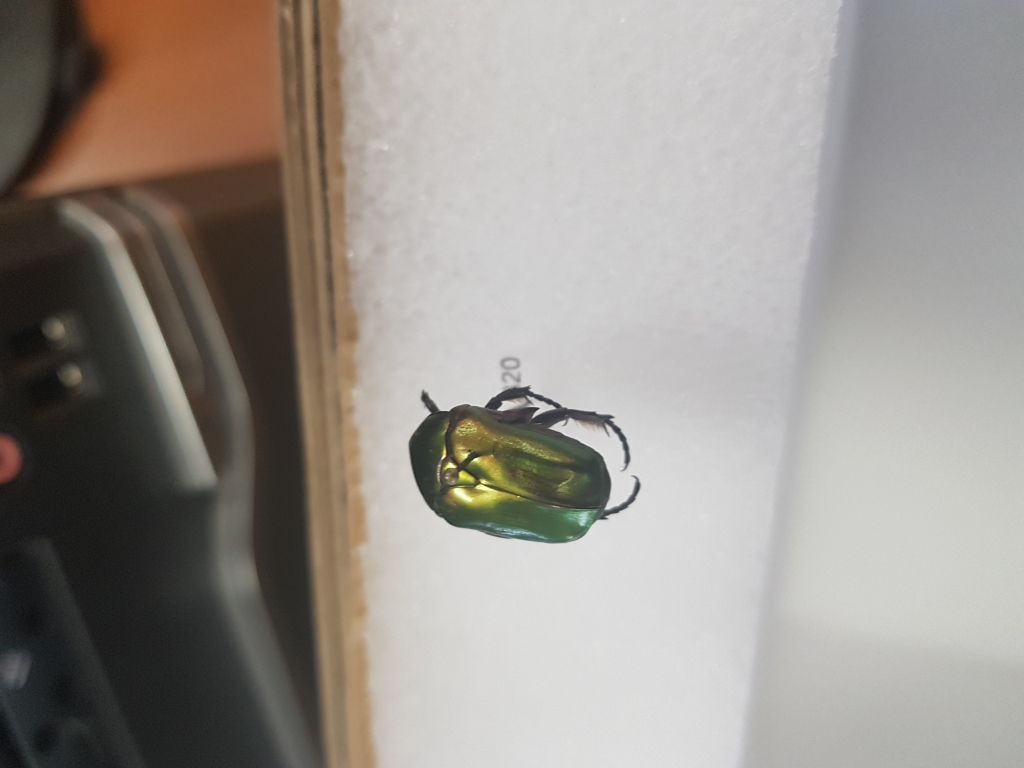Protaetia_cuprea_ignicollis: (404, 384, 647, 547)
